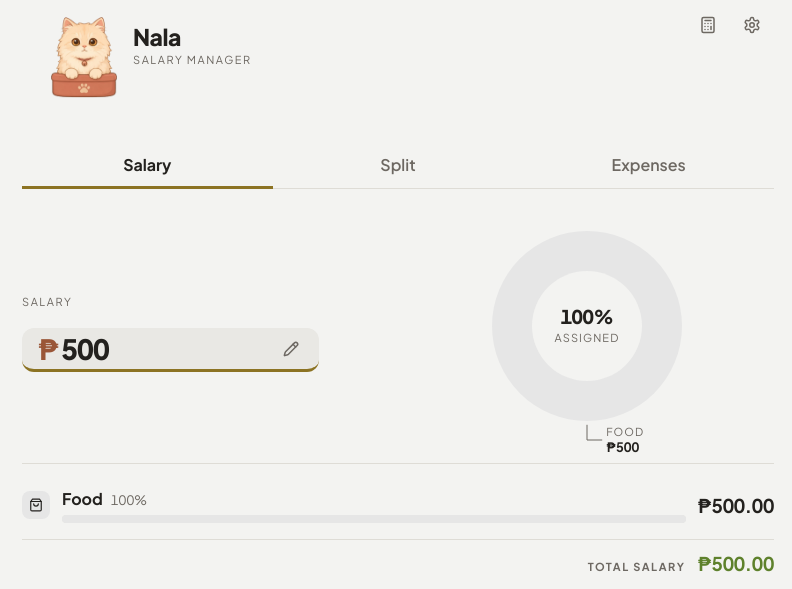
it: expense tracking in App › loads an old config without expenses as an empty history
Click the tab "Expenses". click: click(649, 167)
box: [523, 145, 774, 189]
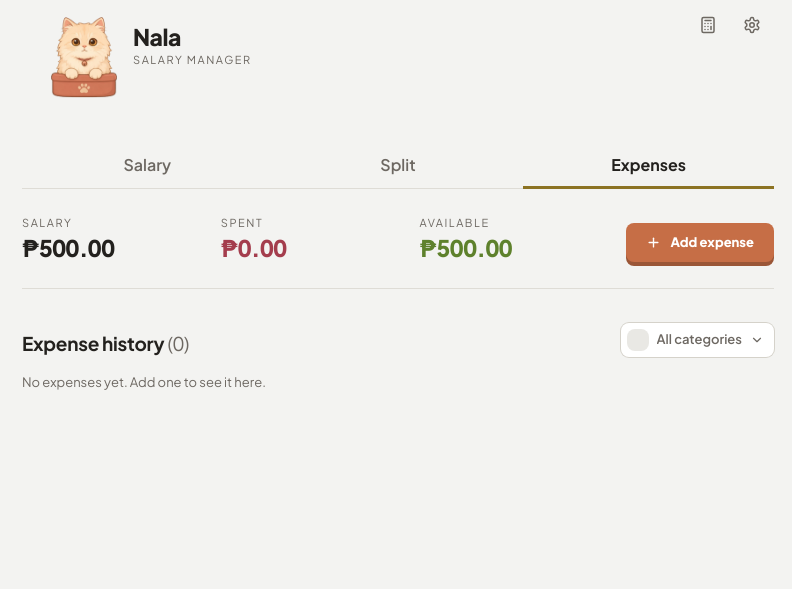
Check: the text "No expenses yet. Add one to see it here." is shown, box [22, 374, 266, 390]
Check: the text "₱0.00" is shown, box [221, 233, 287, 262]
Click the tab "Salary". click: click(147, 167)
box: [22, 145, 273, 189]
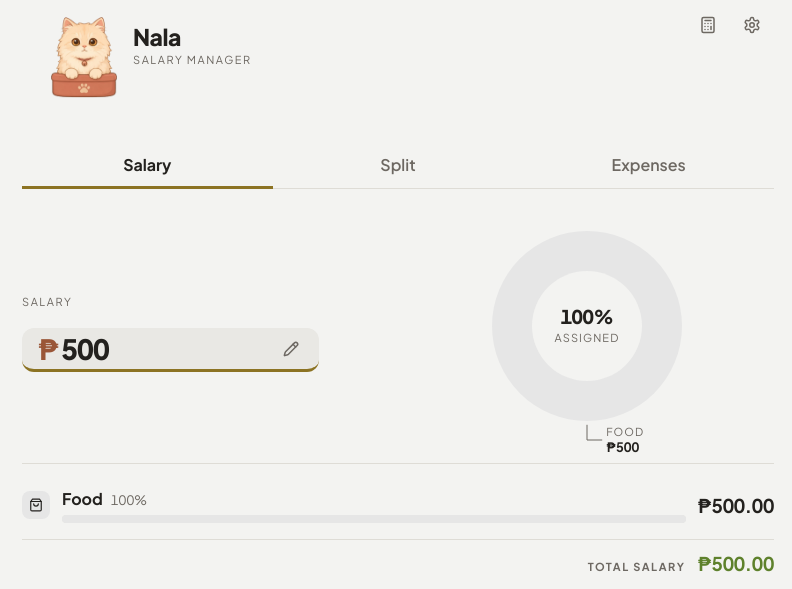
Click the button named "Edit salary". click: click(291, 348)
box: [269, 326, 313, 370]
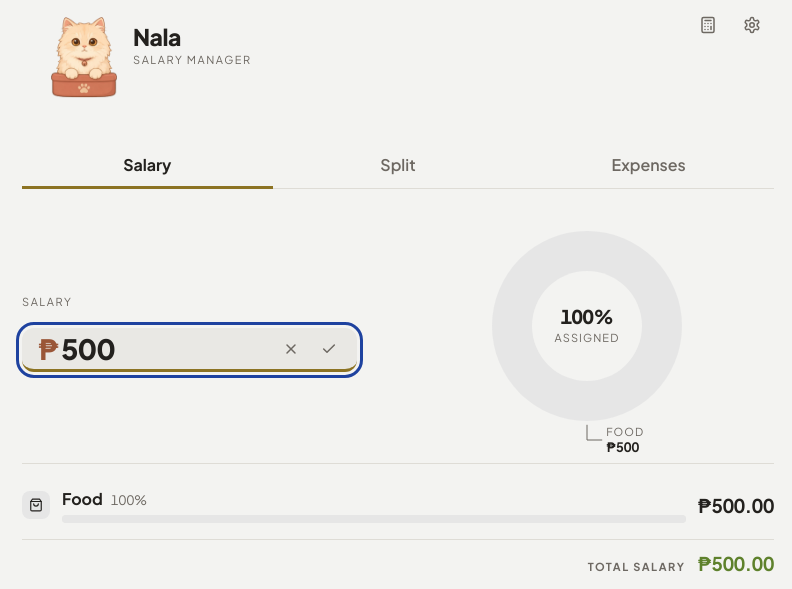
Check: the field named "Take-home pay in pesos" holds "500", box [61, 334, 257, 363]
